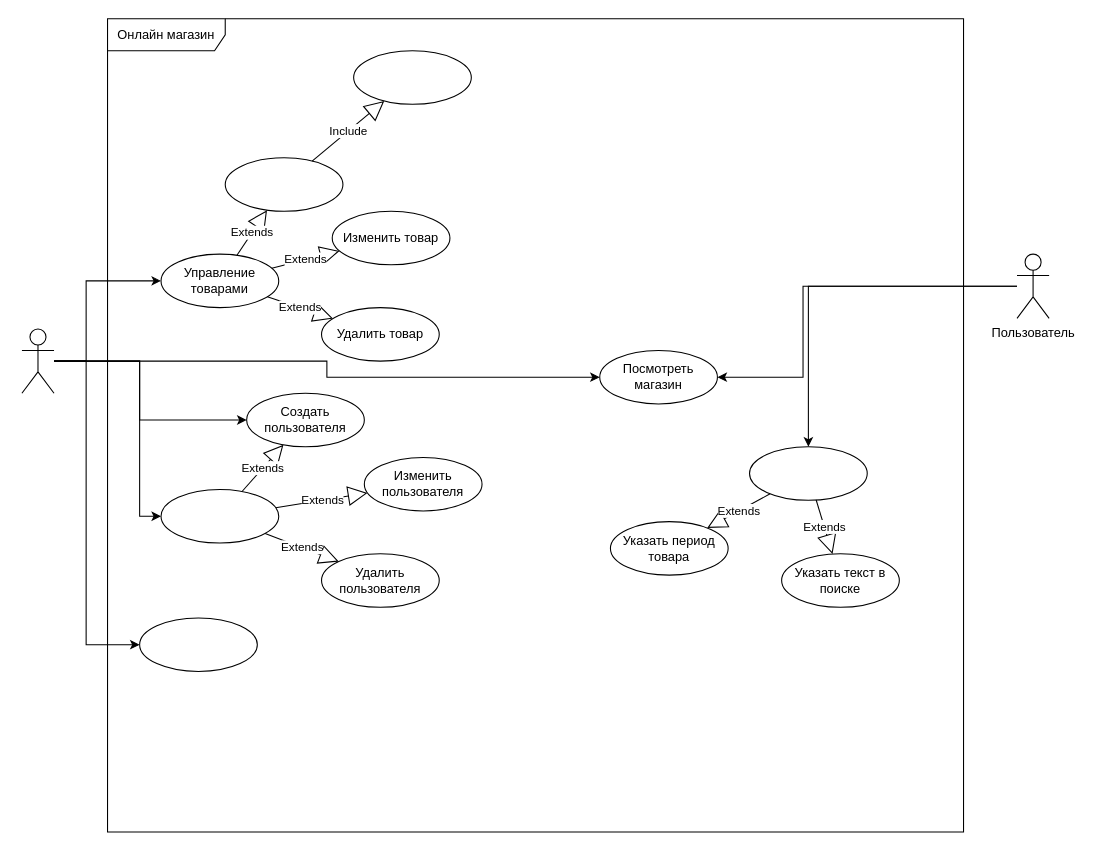
Image size: 1094x851. Some labels were removed from this diagram. The shapes that lost their labels are listed below. From the top down, each one's centre as x and y in pixels, then its label:
At point (412, 77): "Указать название".
At point (283, 184): "Создать товар".
At point (37, 360): "Админ".
At point (807, 473): "Отфильтровать товары".
At point (219, 515): "Управление пользователями".
At point (198, 644): "Просмотр ролей".
